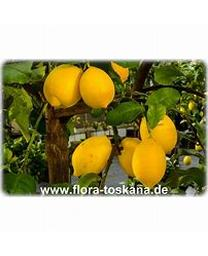lemon: (44, 65, 84, 107), (132, 138, 166, 187), (72, 134, 111, 176), (140, 113, 177, 155), (80, 67, 115, 109)
